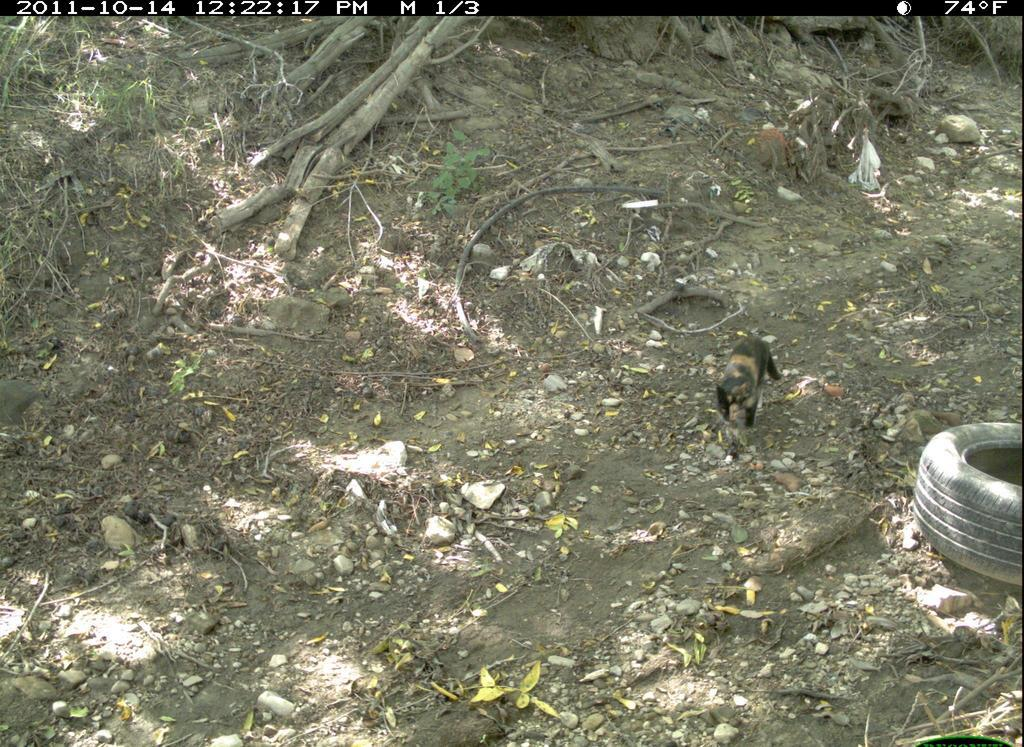cat: (711, 333, 790, 440)
